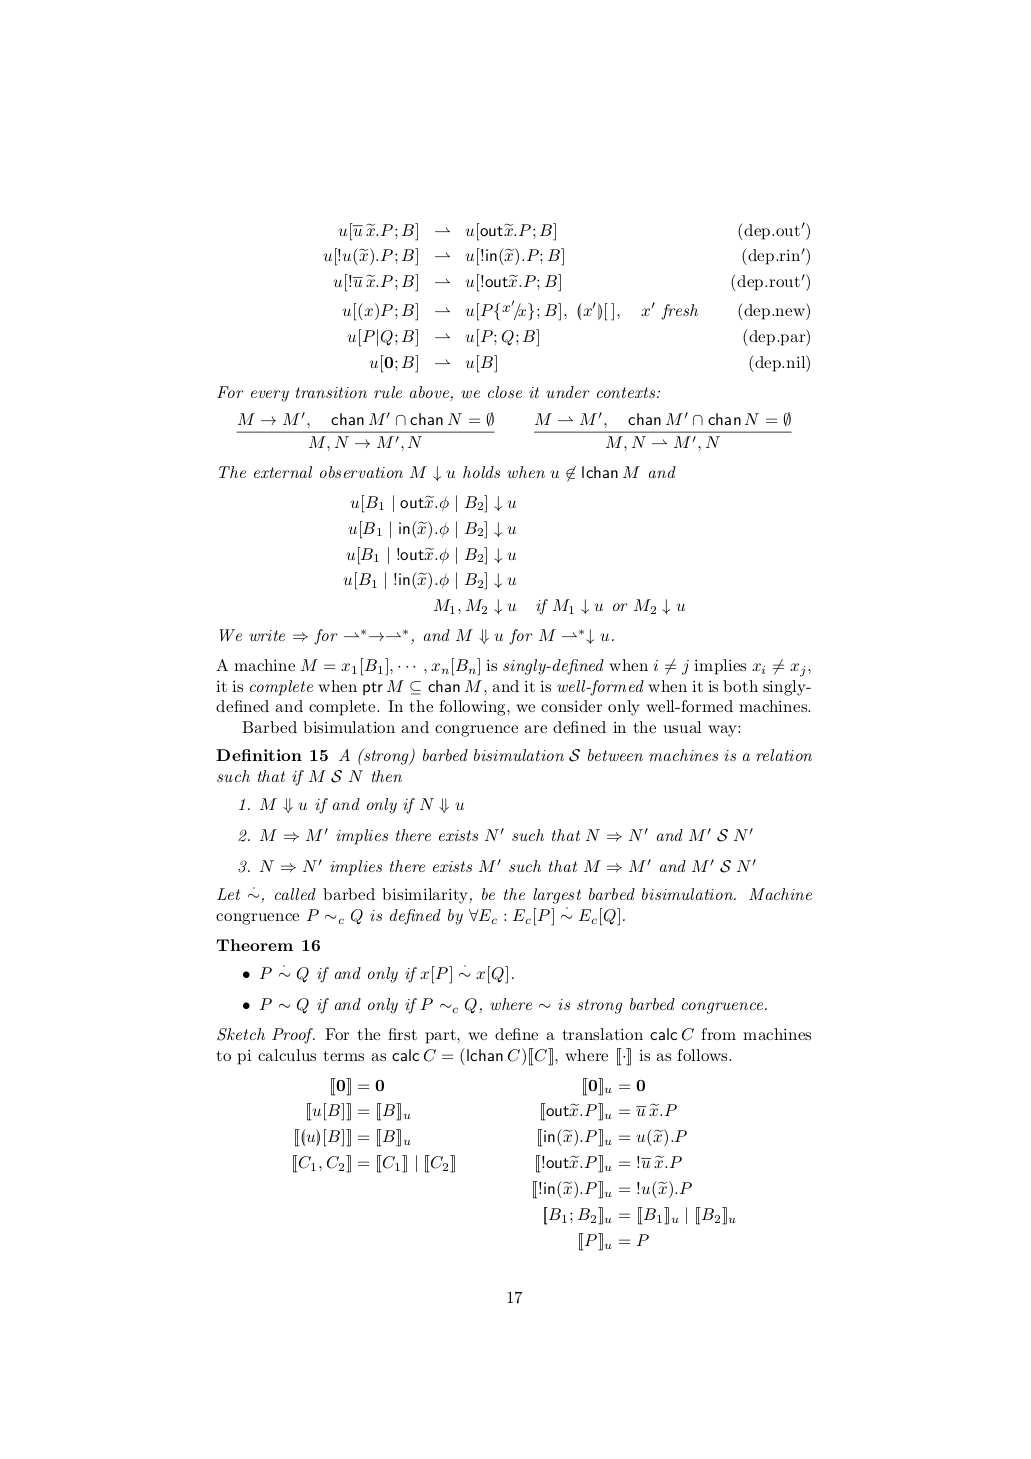formula: (237, 412, 791, 450), (343, 299, 809, 321), (333, 272, 809, 292), (338, 221, 809, 241), (322, 247, 809, 265), (347, 328, 809, 347), (369, 354, 809, 373), (295, 1128, 686, 1147), (307, 1101, 676, 1121), (293, 1154, 681, 1173), (331, 1078, 644, 1096), (433, 598, 685, 615), (545, 1205, 735, 1225), (346, 545, 515, 566), (343, 571, 515, 590), (348, 520, 515, 539), (350, 494, 515, 513), (533, 1180, 691, 1199), (579, 1231, 648, 1252)
